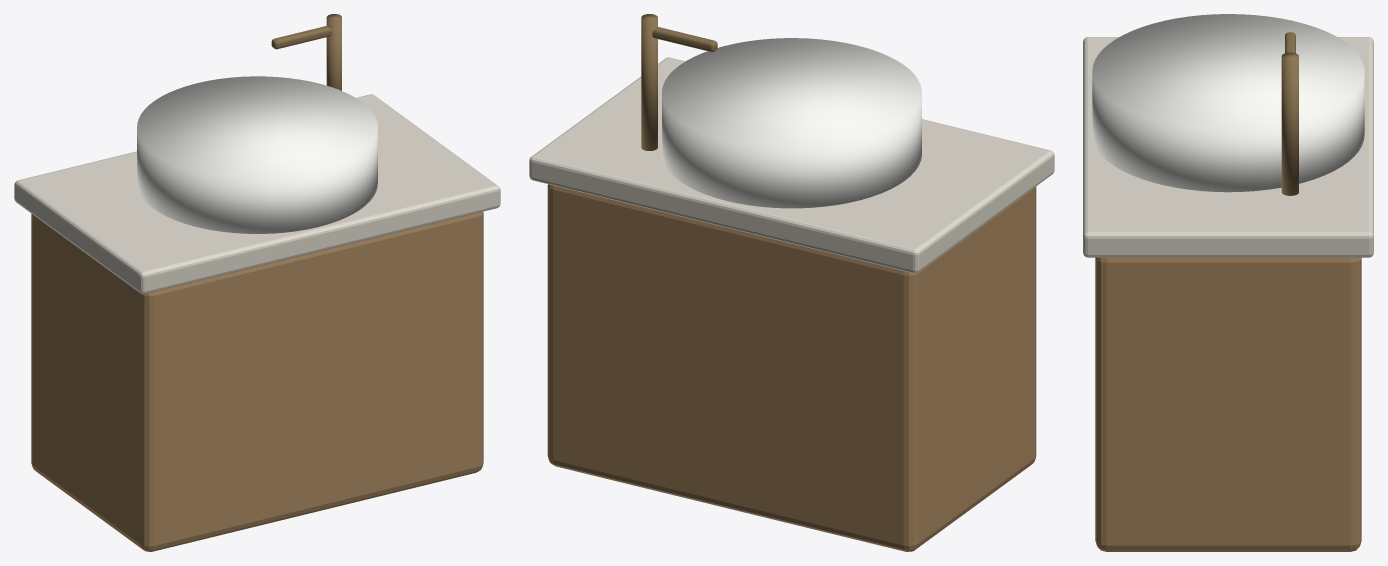
Rendered from floating-vanity.glb.
The picture shows the model from 3 angles, left to right: view 1: azimuth 30°, elevation 25°; view 2: azimuth 150°, elevation 25°; view 3: azimuth 270°, elevation 25°; orthographic projection. The views are drawn at different scales.
Visible parts, largest first — view 1: Floating cabinet; view 2: Floating cabinet; view 3: Floating cabinet.
Part boxes in pixels (box(x1,y1,x2,y2)): Floating cabinet: box(14, 14, 500, 551); Floating cabinet: box(529, 14, 1054, 551); Floating cabinet: box(1083, 14, 1373, 551).
Bounding box in the file's own units: 0.76 × 0.825 × 0.47.
